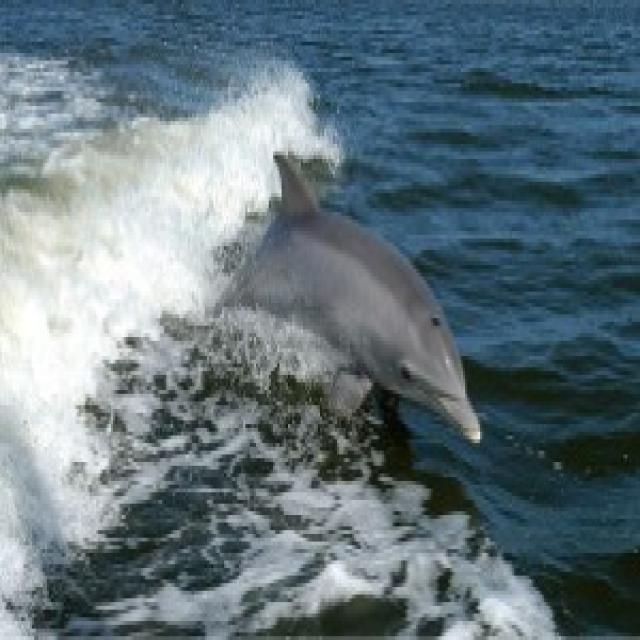Dolphin: (222, 142, 486, 465)
